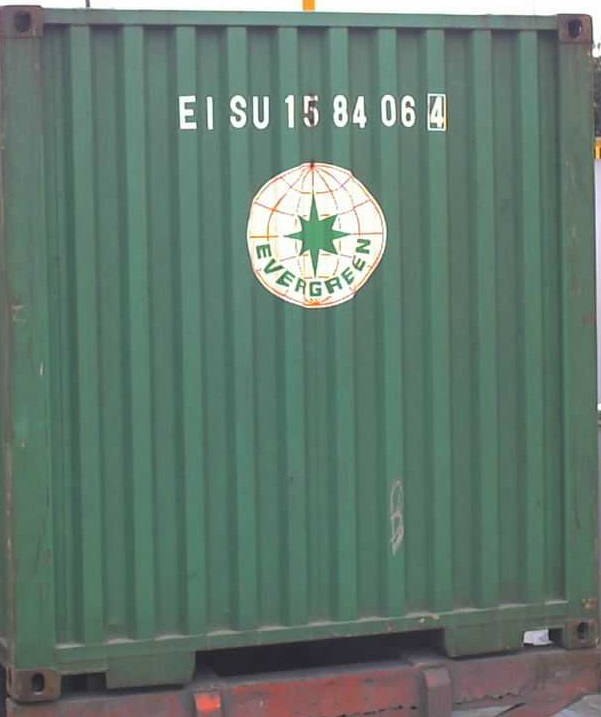container_no_door: (1, 7, 594, 700)
